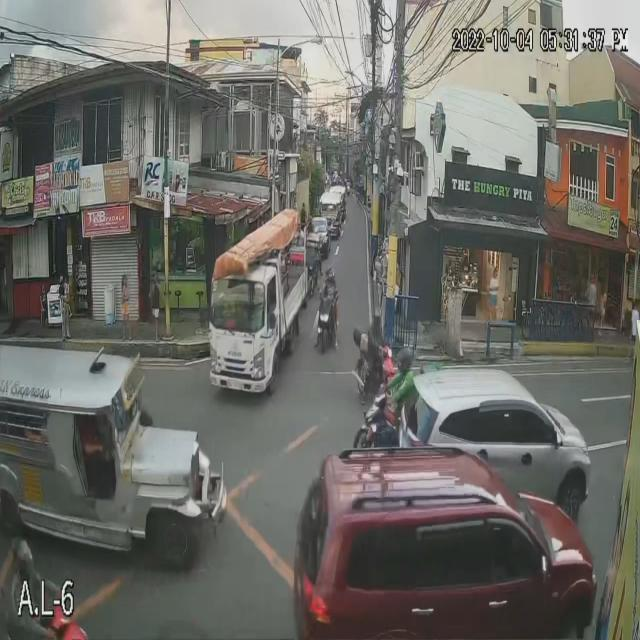full: (394, 345, 412, 373)
